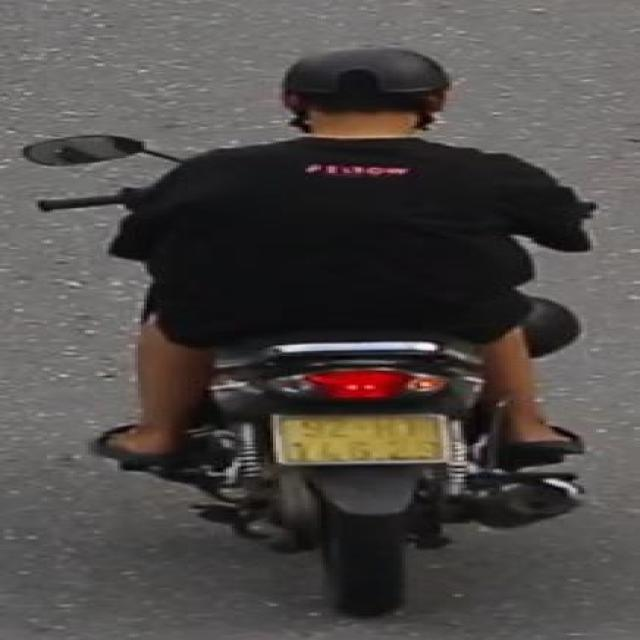LP: (263, 407, 462, 467)
helmet: (272, 44, 459, 149)
